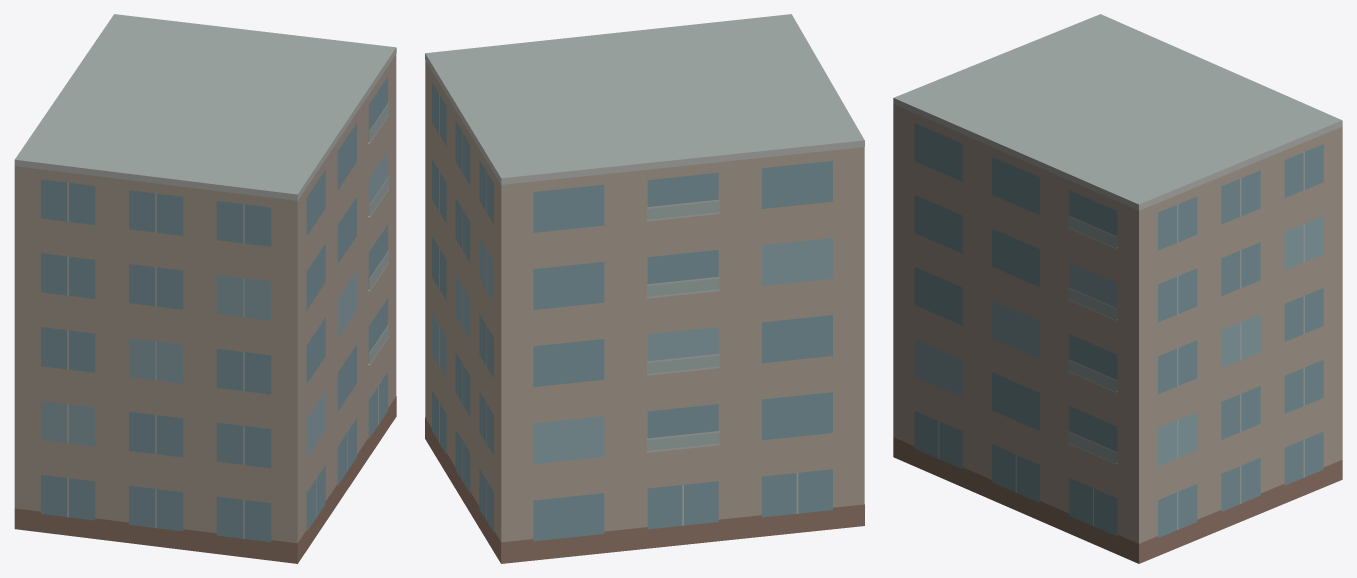
Rendered from survey-upis-32882489.glb.
3 renders of one model, left to right at view 1: azimuth 30°, elevation 25°; view 2: azimuth 150°, elevation 25°; view 3: azimuth 270°, elevation 25°, orthographic. The views are drawn at different scales.
Parts seen in each view (by area): view 1: survey-upis-32882489.tmp; view 2: survey-upis-32882489.tmp; view 3: survey-upis-32882489.tmp.
Boxes of the visible parts, left/top/right/bottom form: survey-upis-32882489.tmp: left=14, top=14, right=396, bottom=563; survey-upis-32882489.tmp: left=425, top=14, right=864, bottom=563; survey-upis-32882489.tmp: left=893, top=14, right=1342, bottom=563.
Bounding box in the file's own units: 16.16 × 14.2 × 16.09.
